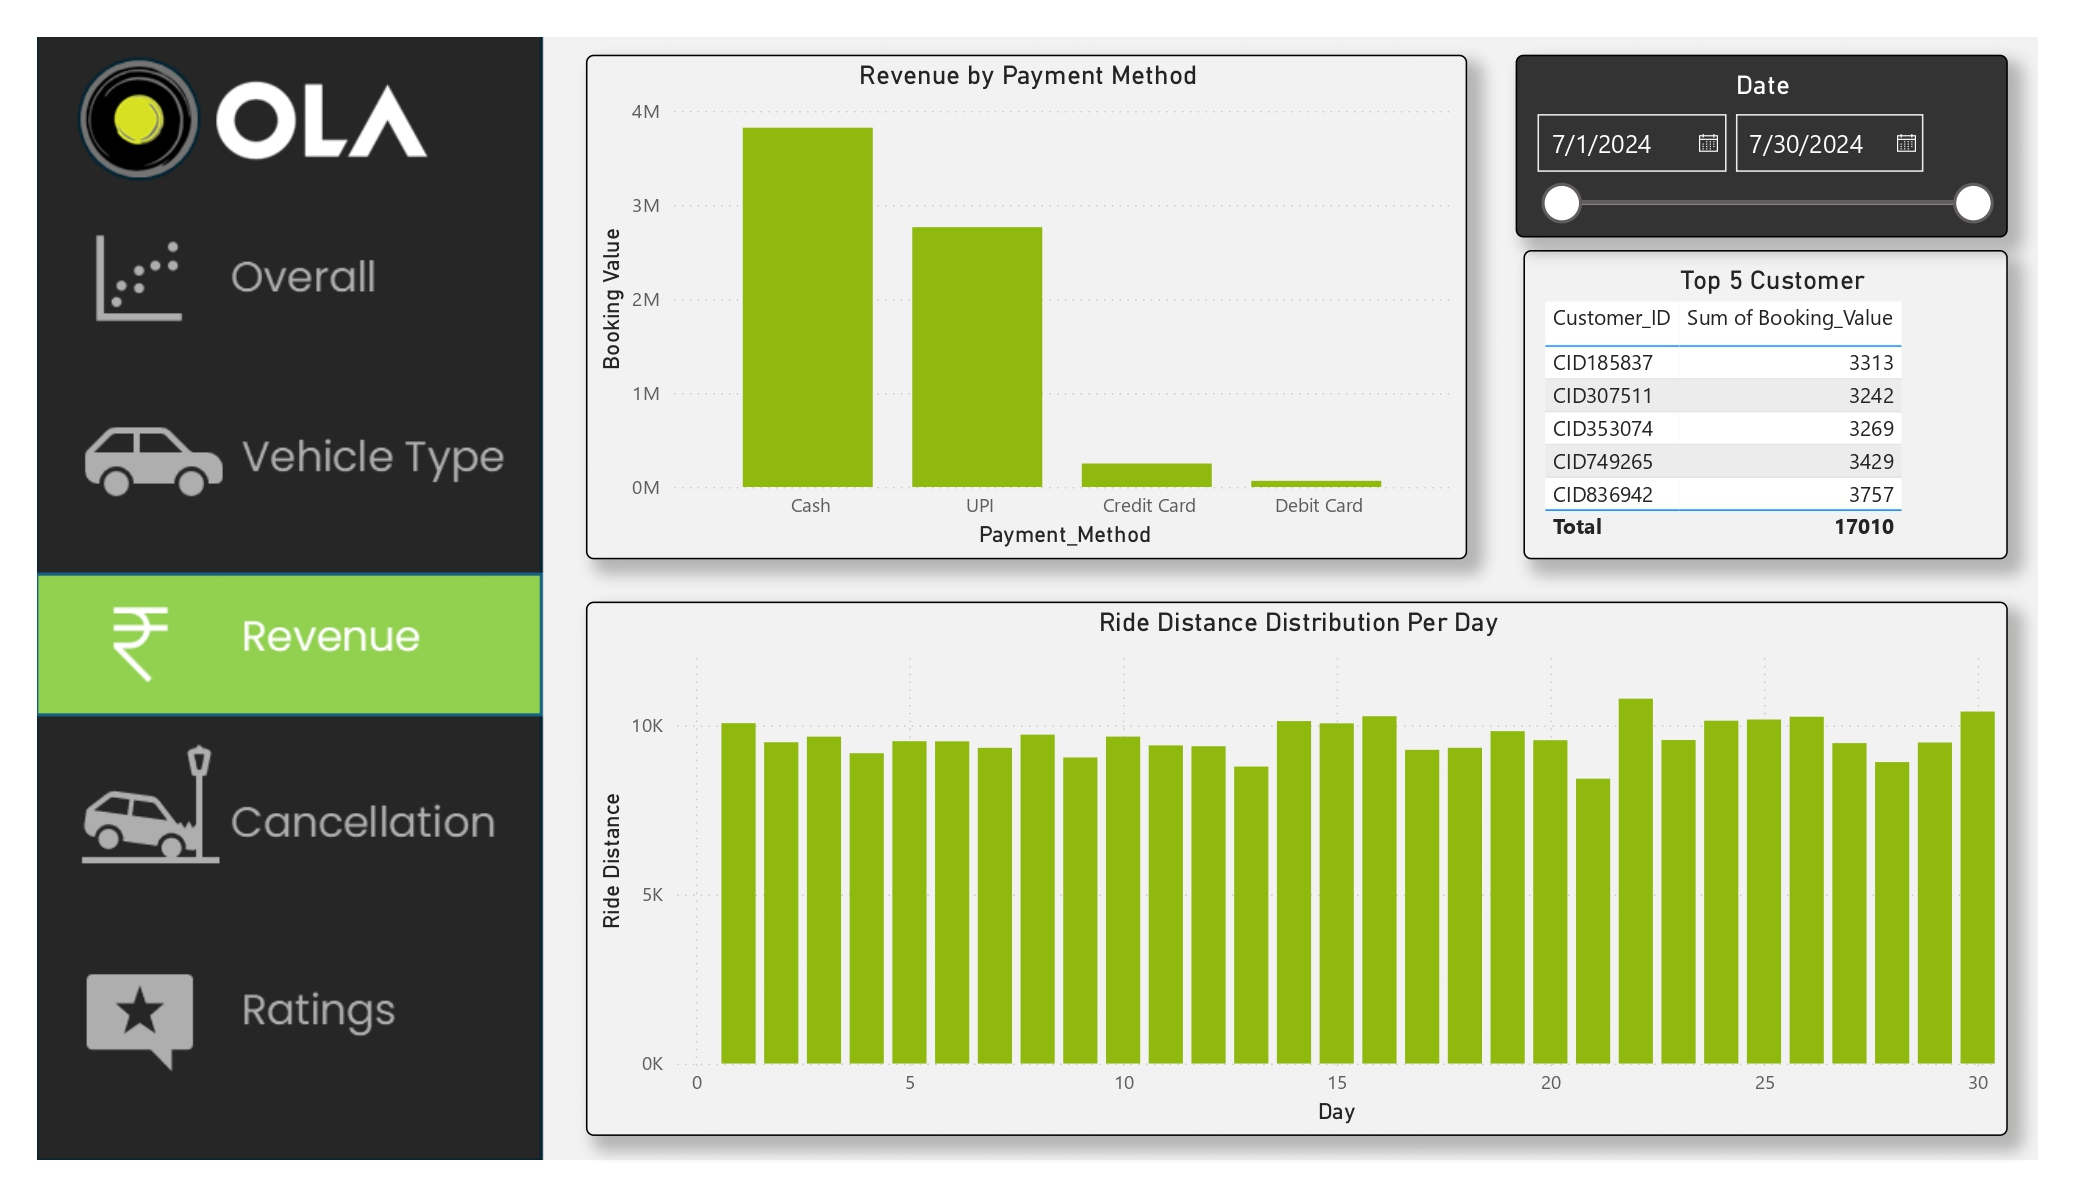

The page's visual inventory and layout, read from the dashboard file:
{"tool":"powerbi","page":{"name":"Revenue","canvas":[1280,720],"ordinal":2},"visuals":[{"type":"actionButton","box":[0,224,325,91],"z":0},{"type":"actionButton","box":[0,447,325,93],"z":1000},{"type":"actionButton","box":[0,578,325,93],"z":2000},{"type":"actionButton","box":[0,110,325,93],"z":3000},{"type":"columnChart","title":"Revenue by Payment Method","fields":{"Y":["Sum(July.Booking_Value)"],"Category":["July.Payment_Method"]},"box":[350.9,11.5,564,323],"z":3001},{"type":"columnChart","title":" Ride Distance Distribution Per Day","fields":{"Y":["Sum(July.Ride_Distance)"],"Category":["July.Date.Variation.Date Hierarchy.Day"]},"box":[350.9,360.7,910,342.7],"z":3002},{"type":"slicer","title":"Date","fields":{"Values":["July.Date"]},"box":[946.1,11.5,314.8,116.4],"z":3003},{"type":"tableEx","title":"Top 5 Customer","fields":{"Values":["July.Customer_ID","Sum(July.Booking_Value)"]},"box":[951,136.1,309.9,198.4],"z":3004}]}

Visuals, with their boxes on the page's 1280x720 design canvas (x1, y1, x2, y2). These are canvas units, not pixel positions in the 2075x1200 screenshot, which may show the page scaled, cropped or inside an application window:
actionButton: 0,224,325,315
actionButton: 0,447,325,540
actionButton: 0,578,325,671
actionButton: 0,110,325,203
"Revenue by Payment Method" columnChart: 351,12,915,334
" Ride Distance Distribution Per Day" columnChart: 351,361,1261,703
"Date" slicer: 946,12,1261,128
"Top 5 Customer" tableEx: 951,136,1261,334
